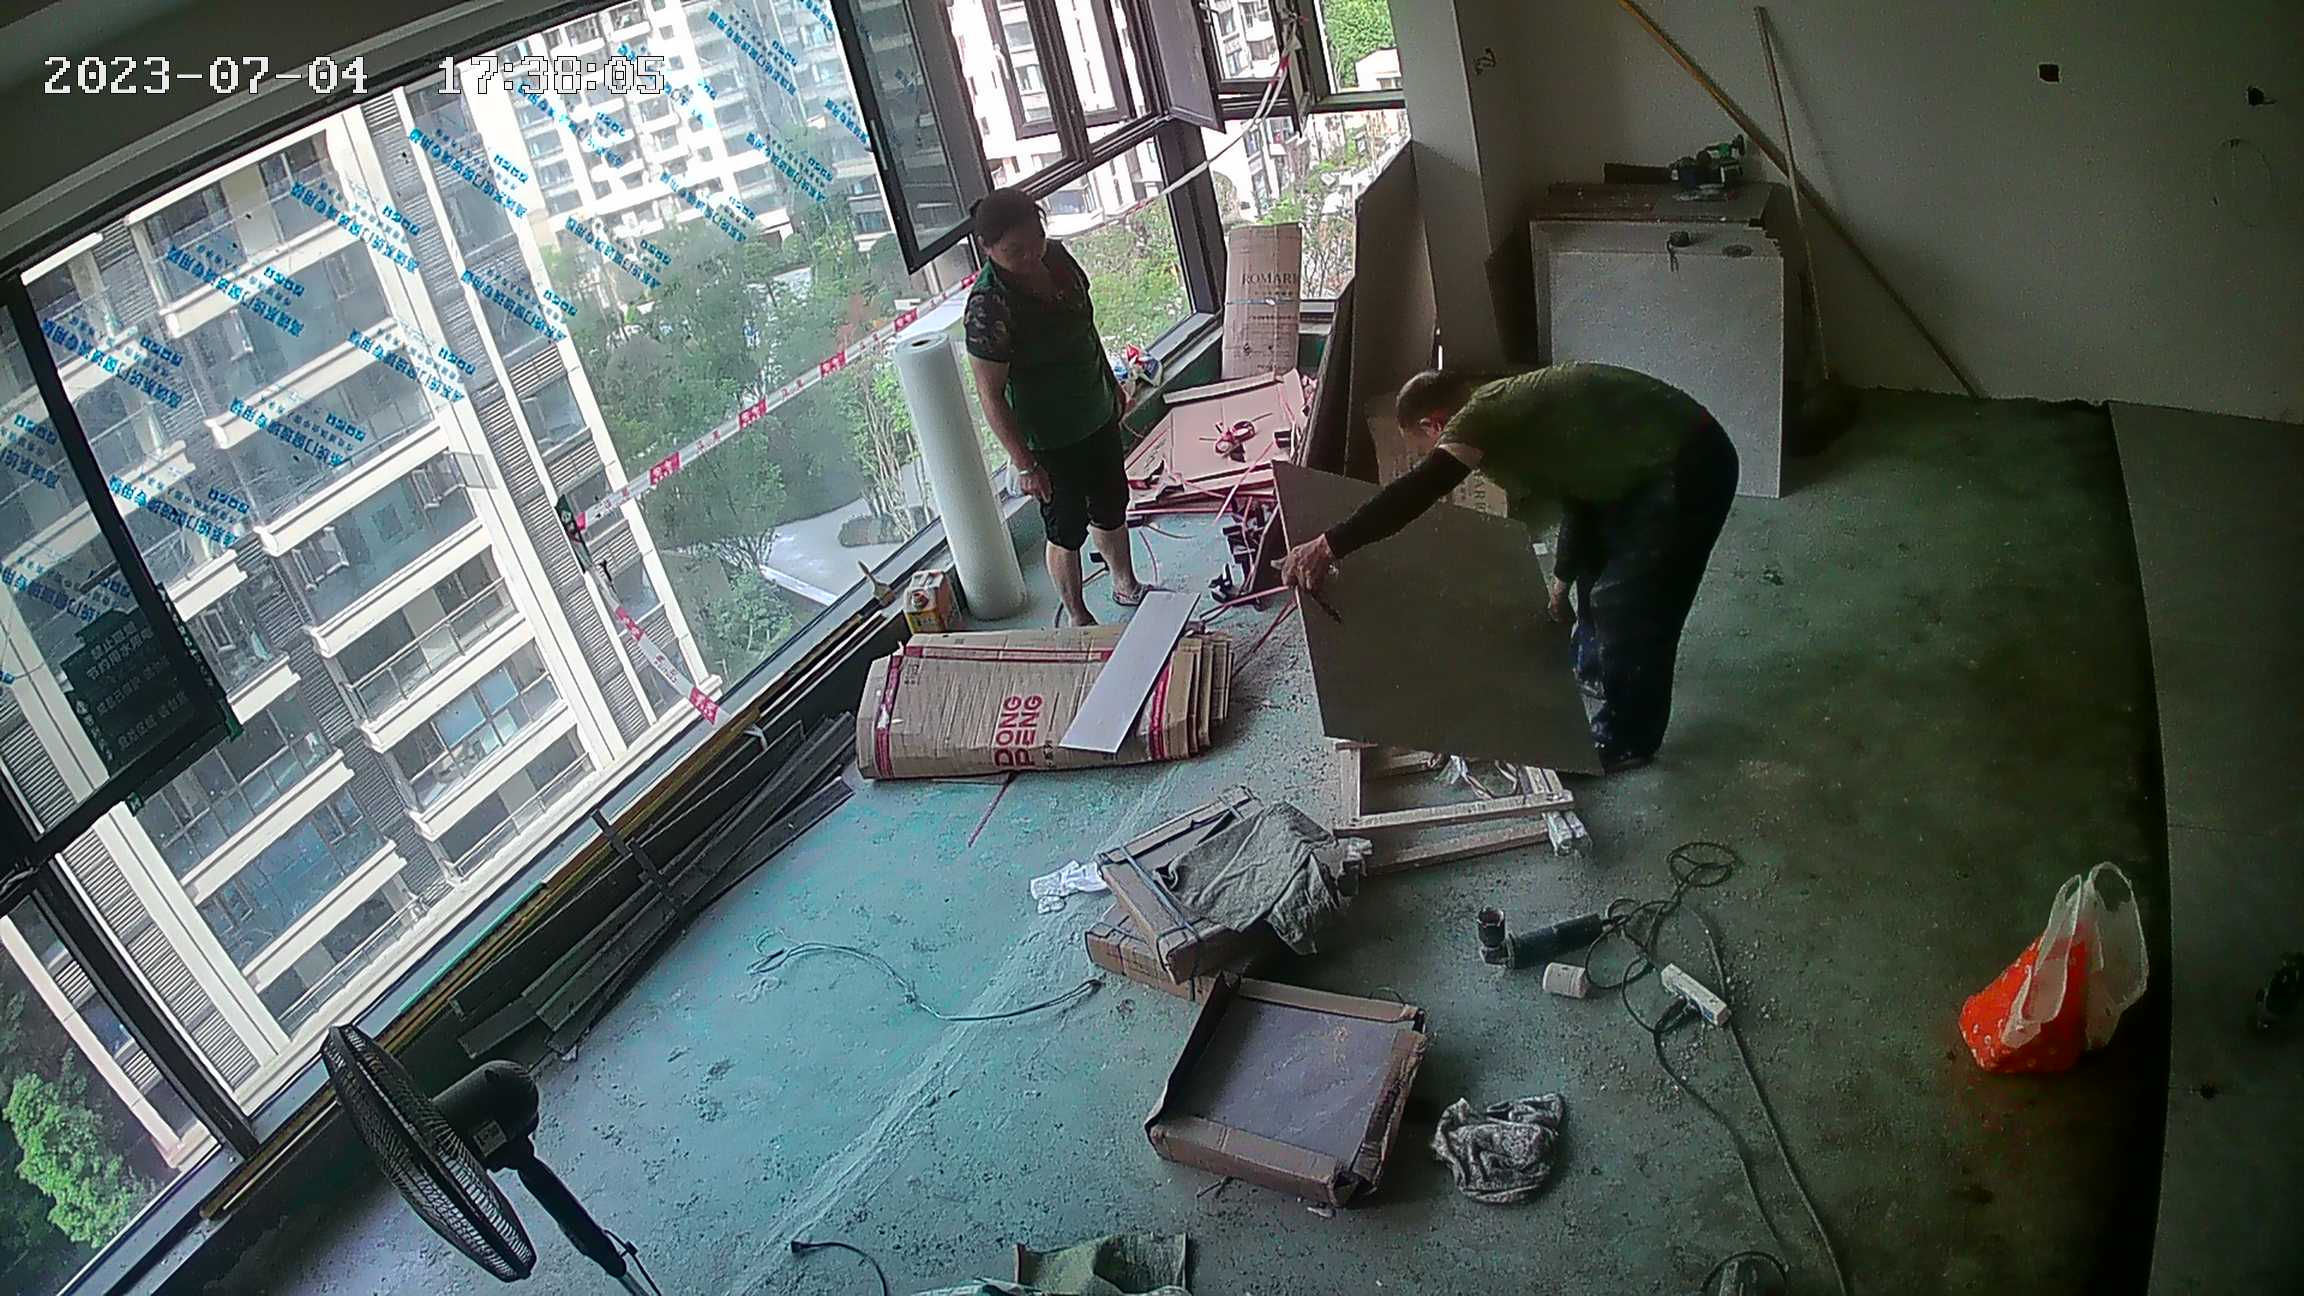people: (1289, 354, 1748, 777), (962, 191, 1159, 629)
window: (1, 13, 1421, 1173)
